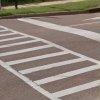Crosswalk: (7, 22, 76, 99)
